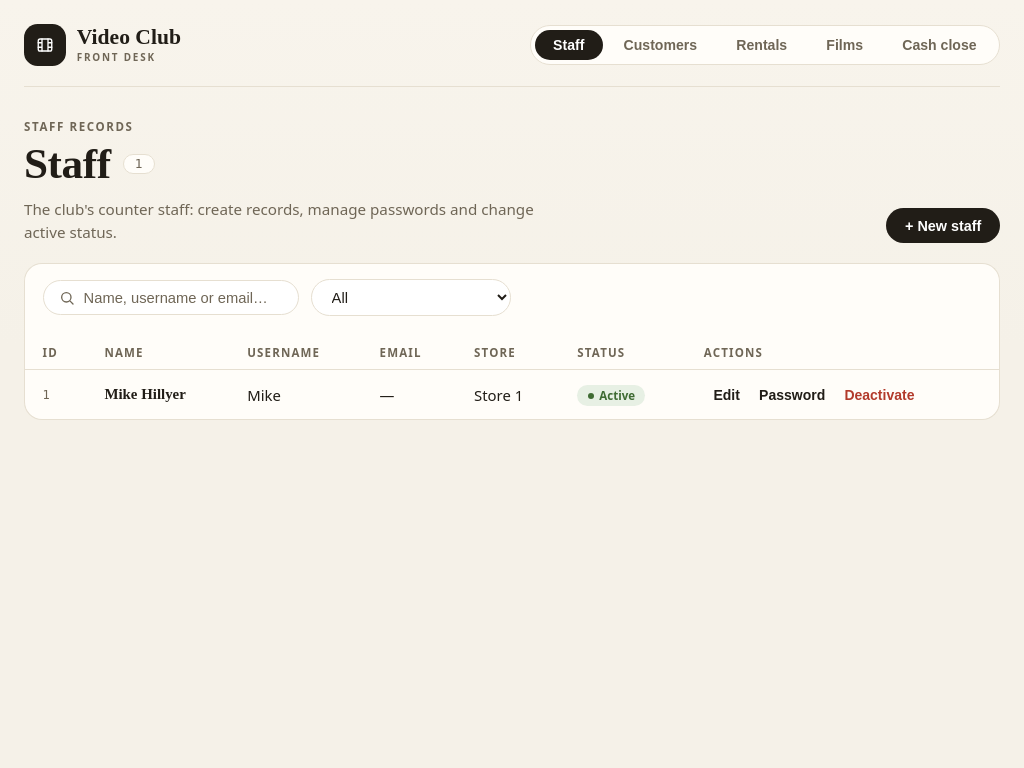
Test: Rentals view › shows a return conflict at page level (double return race)
Click the tab "Rentals" at coordinates (762, 45), box [718, 30, 806, 60]
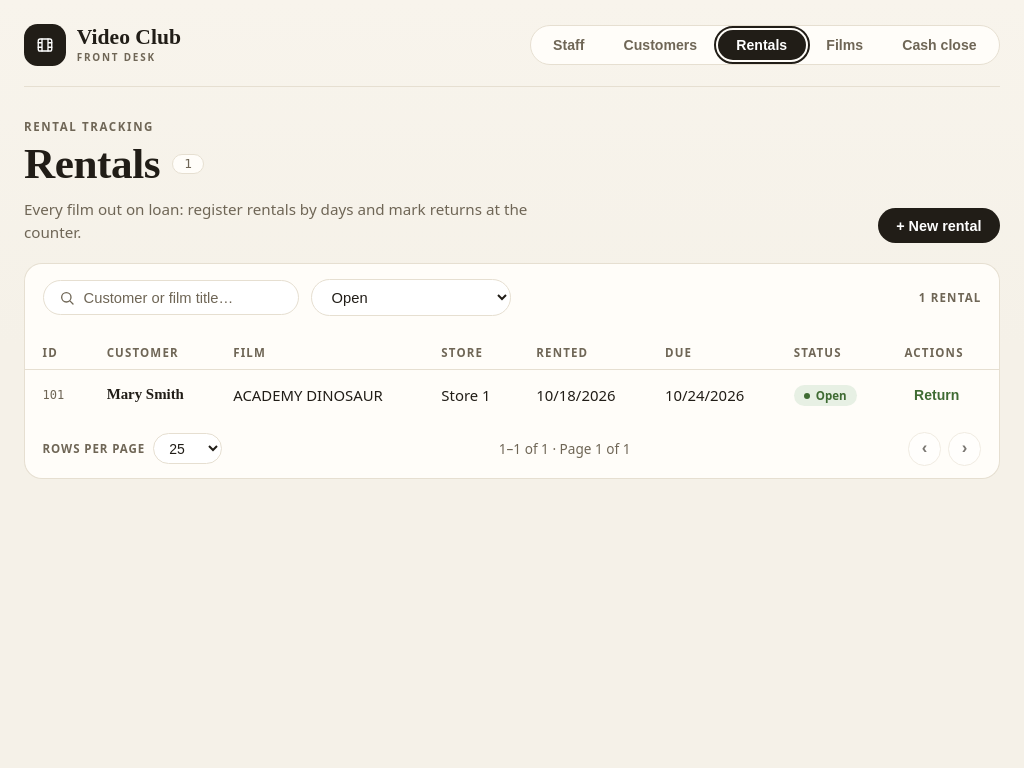
Expected: the text "ACADEMY DINOSAUR" is shown, [216, 369, 424, 419]
Click the button "Return" at coordinates (937, 395), box [906, 383, 967, 406]
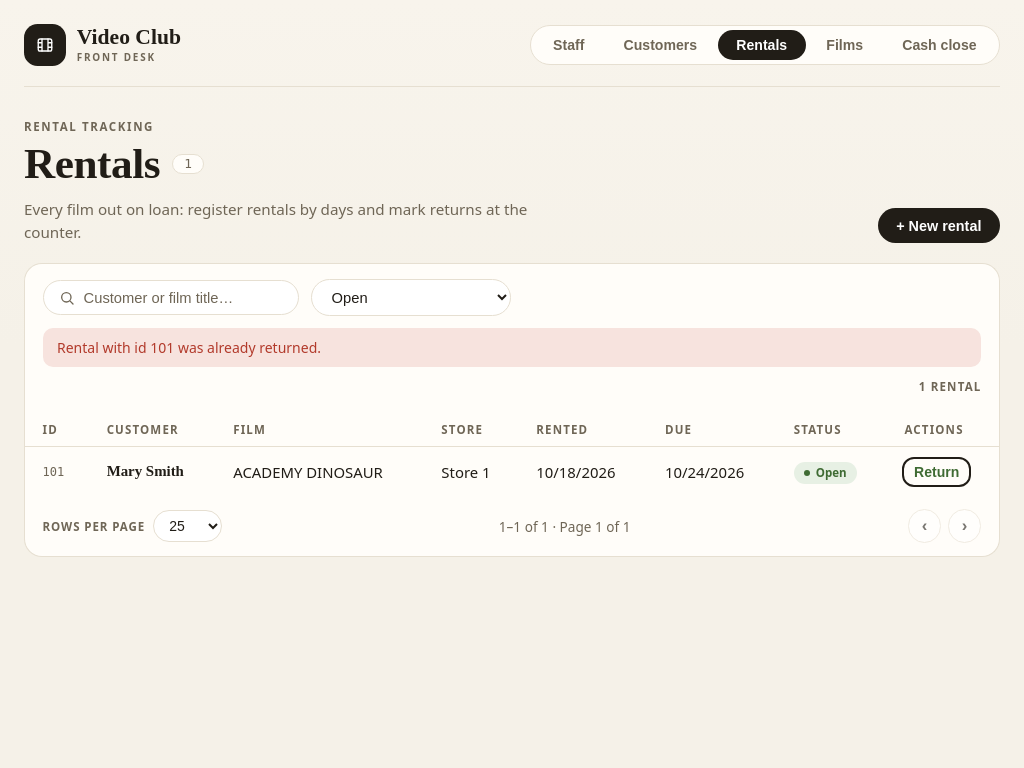
Expected: the text "Open" is shown, [794, 462, 857, 484]
Expected: the text "Rental with id 101 was already returned." is shown, [43, 328, 981, 367]
